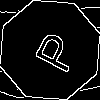P: (25, 25, 81, 76)
